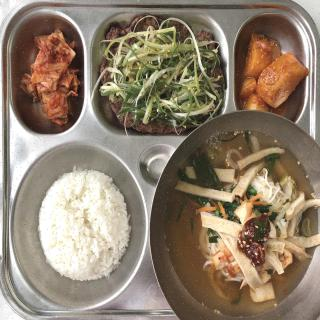Nasi: (34, 165, 137, 284)
